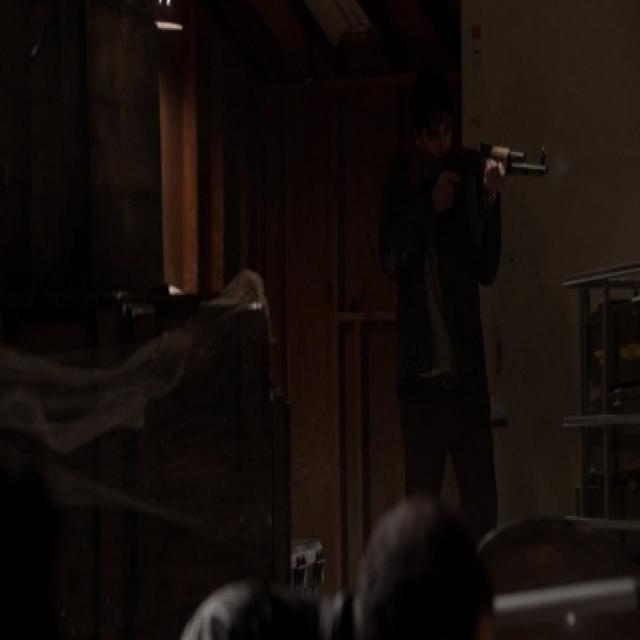rifle: (453, 133, 551, 183)
